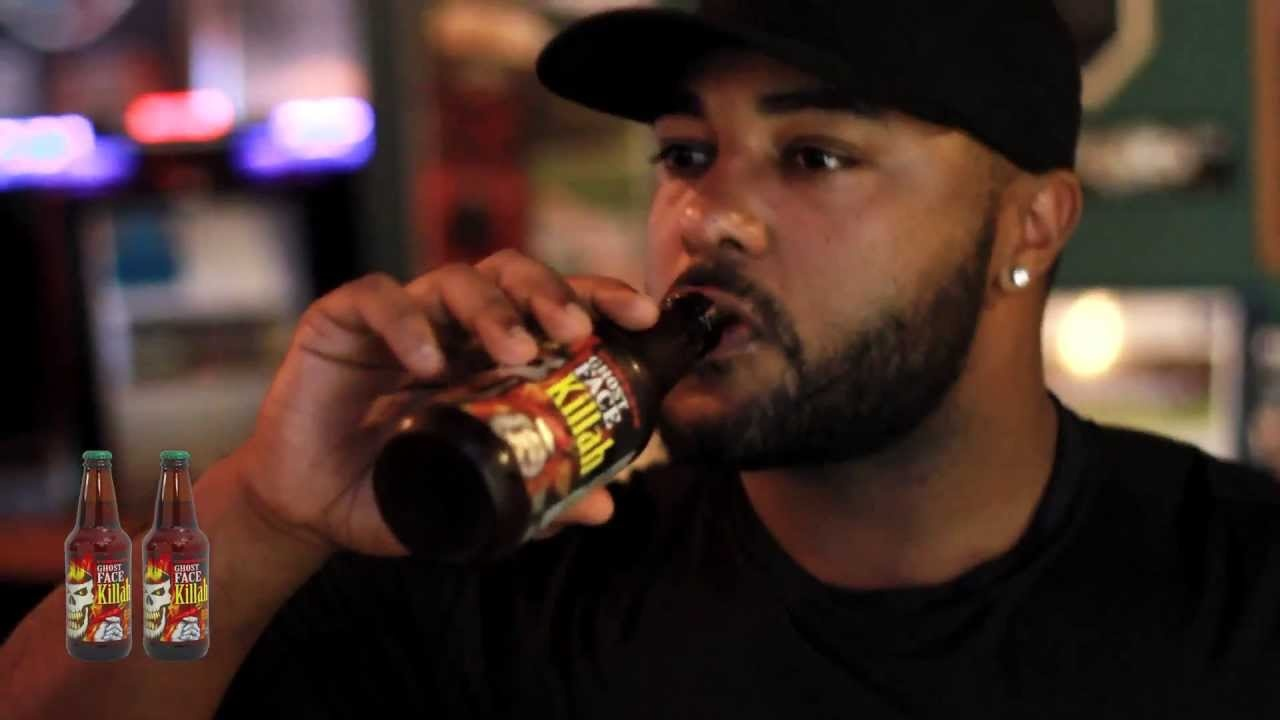beerBottle: (364, 295, 724, 566)
